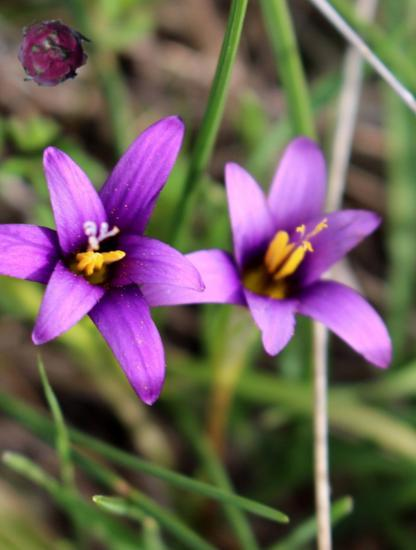Pitahaya: (11, 16, 86, 91)
